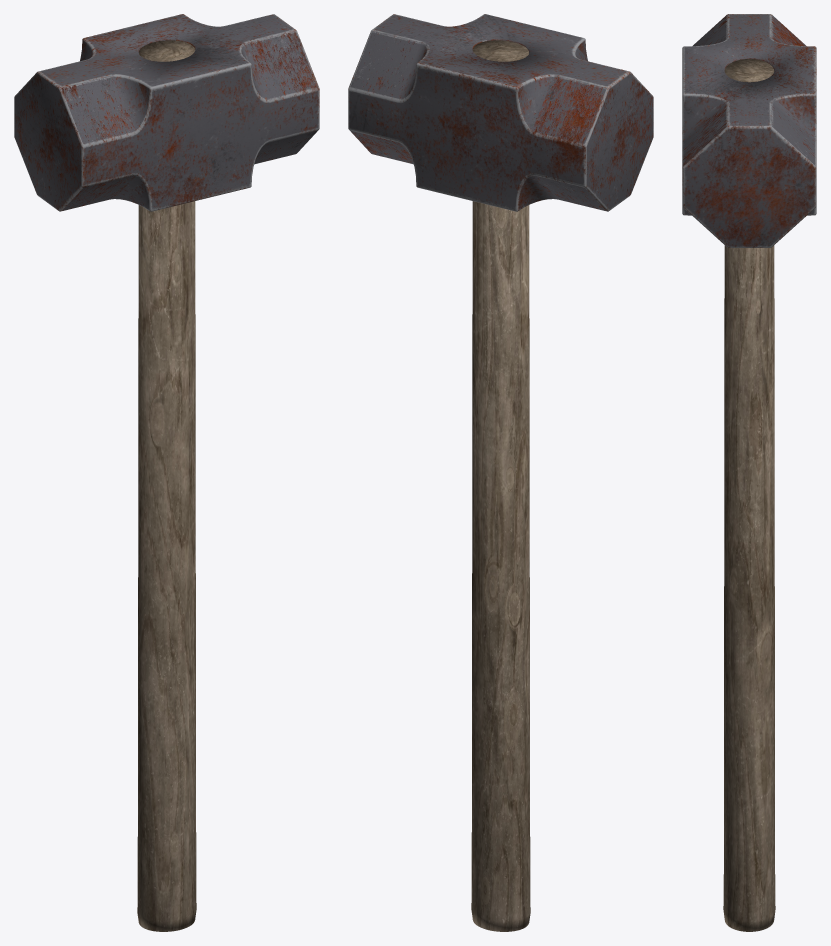
3 views of the same model, side by side, from view 1: azimuth 30°, elevation 25°; view 2: azimuth 150°, elevation 25°; view 3: azimuth 270°, elevation 25° (orthographic). The views are drawn at different scales.
Visible parts, largest first — view 1: Sledge Hammer, Handel; view 2: Sledge Hammer, Handel; view 3: Handel, Sledge Hammer.
Boxes of the visible parts, x1,y1,x2,y2 form: Sledge Hammer: (14, 14, 319, 211); Handel: (137, 40, 196, 931); Sledge Hammer: (348, 14, 653, 211); Handel: (471, 40, 530, 931); Handel: (723, 59, 775, 931); Sledge Hammer: (682, 14, 816, 247).
Size of the model in its own units: 28.8 by 101 by 14.4.
Materials: 2 (2 with a texture image).
